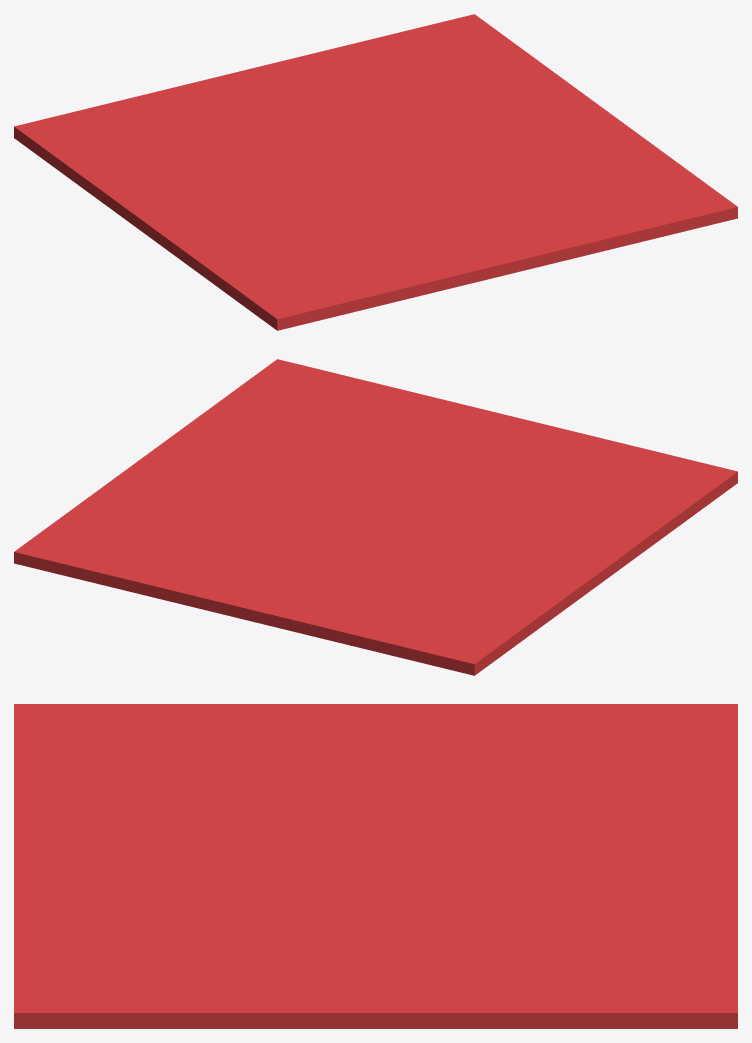
File: tavankaro.fbx
3 views of the same model, one above another, from view 1: azimuth 30°, elevation 25°; view 2: azimuth 150°, elevation 25°; view 3: azimuth 270°, elevation 25° (orthographic). The views are drawn at different scales.
Visible parts, largest first — view 1: Cube.467; view 2: Cube.467; view 3: Cube.467.
Boxes of the visible parts, <box> form: Cube.467: <box>14,14,737,330</box>; Cube.467: <box>14,359,737,675</box>; Cube.467: <box>14,704,737,1028</box>.
Size of the model in its own units: 2506 by 168 by 2482.
